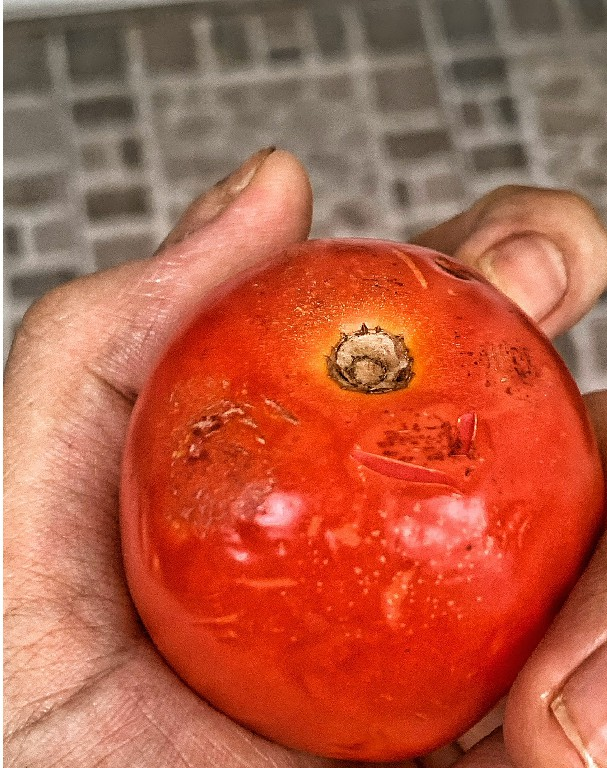NG: (120, 236, 590, 768)
